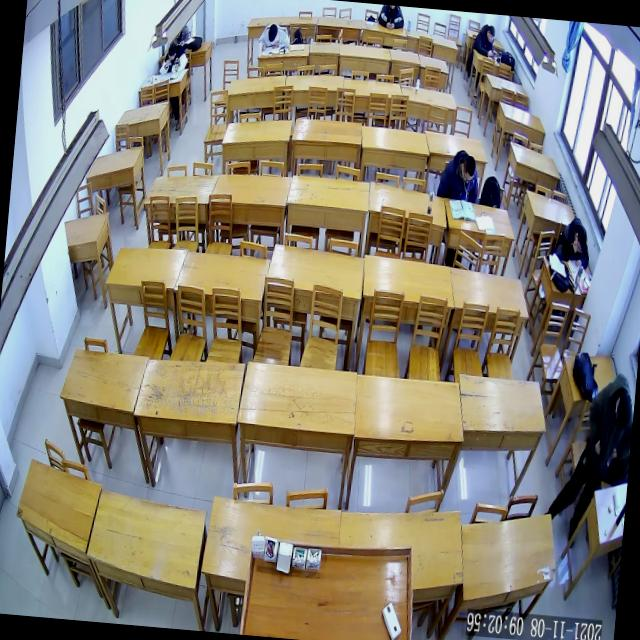bow: (554, 215, 592, 268), (258, 21, 291, 53), (472, 22, 499, 57)
down: (158, 43, 189, 77), (572, 224, 588, 253), (461, 153, 476, 183), (267, 22, 278, 42), (485, 23, 495, 42), (166, 44, 176, 61)
sit: (434, 148, 480, 204)
